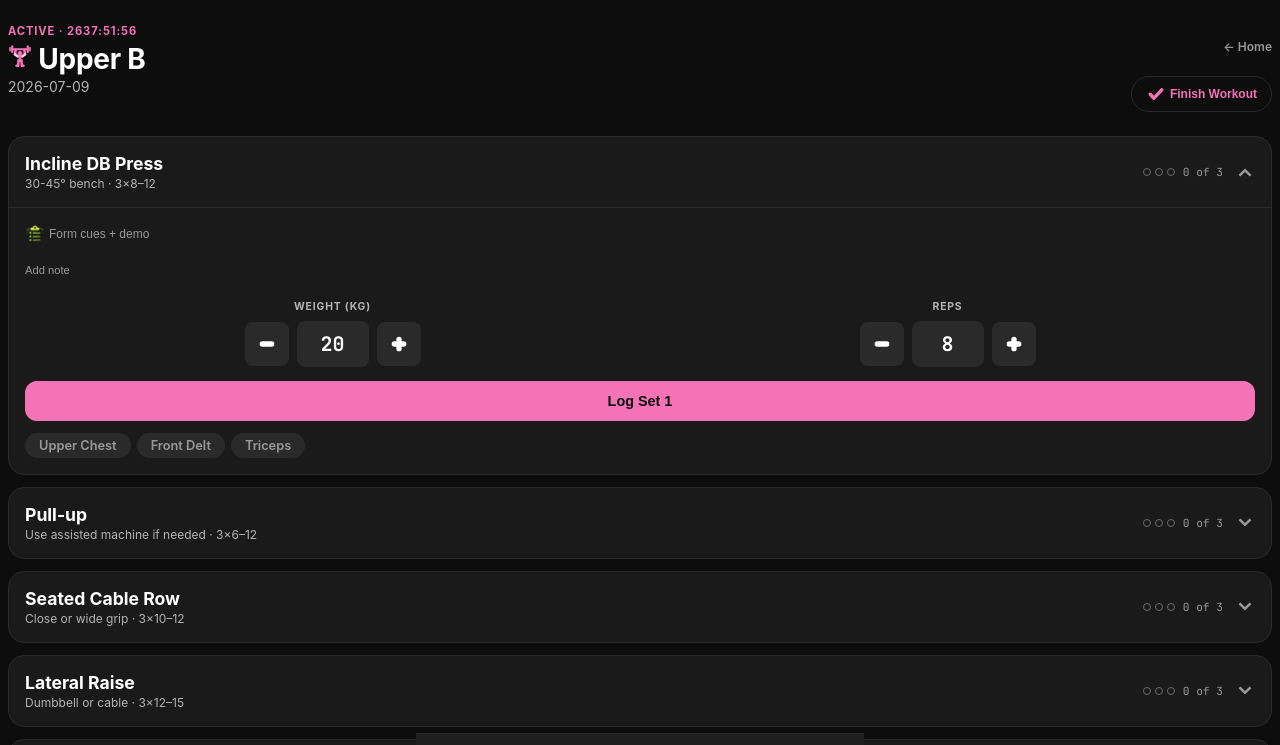
Test: Workout page › a bodyweight exercise shows the Added Weight label and hint
Click the text "Pull-up". click: (56, 514)
box: [25,504,87,525]
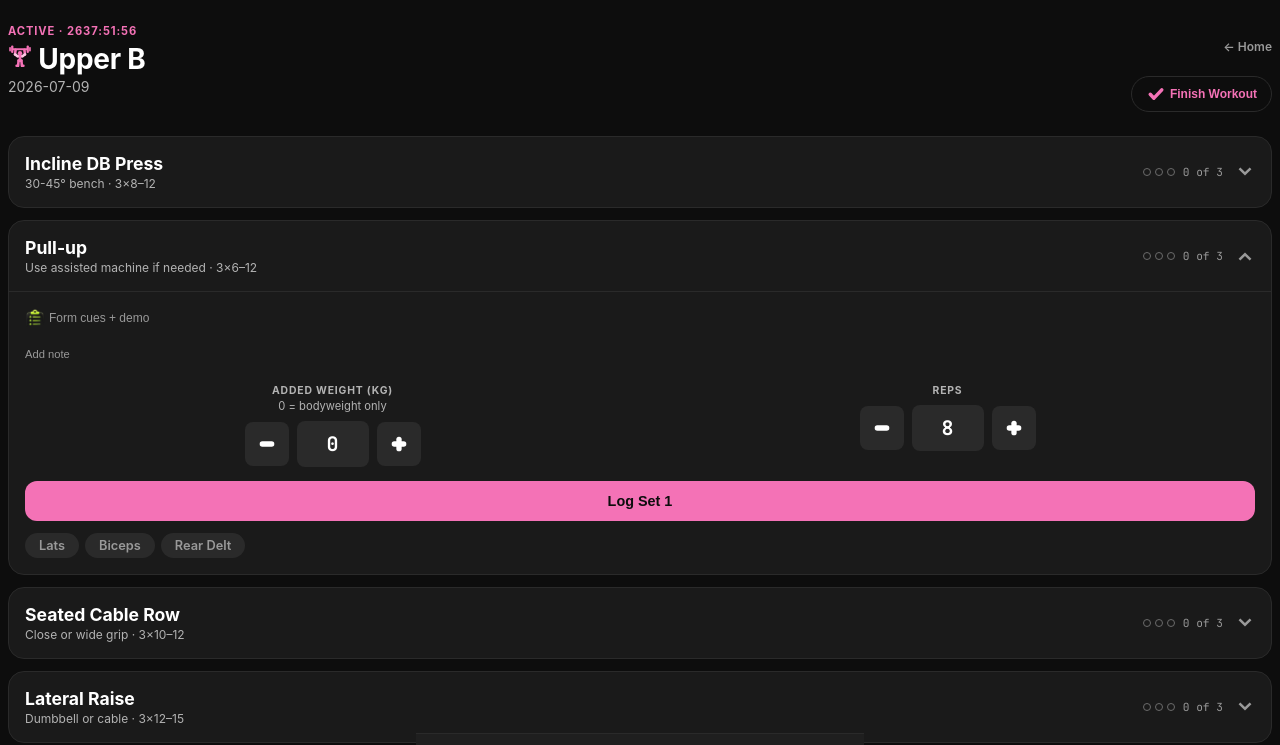
Check: the text "Added Weight (kg)" is shown, box [272,384,393,397]
Check: the text "0 = bodyweight only" is shown, box [278,399,387,413]
